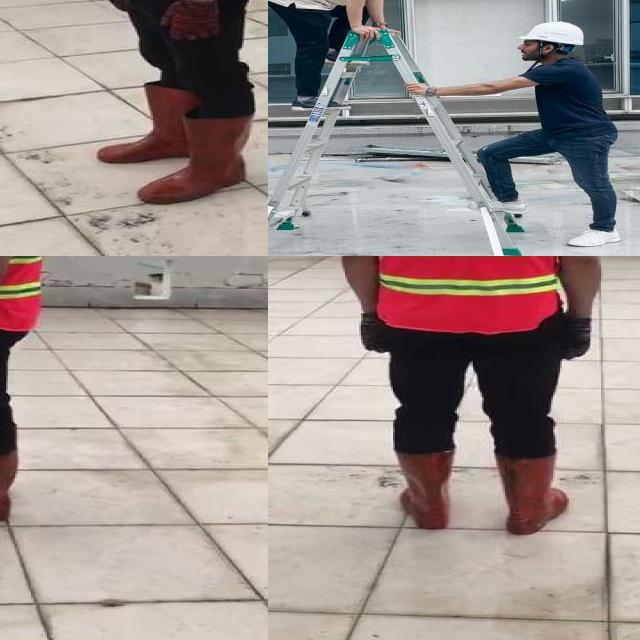boots: (140, 117, 252, 204), (94, 84, 201, 161), (494, 453, 571, 535), (393, 450, 455, 531)
face_nomask: (515, 37, 534, 60)
hand_glove: (158, 0, 222, 42), (359, 313, 388, 354), (566, 315, 590, 359)
hand_noglove: (403, 77, 435, 97), (350, 21, 378, 43)
head_helmet: (516, 17, 587, 47)
person: (316, 256, 618, 549), (467, 3, 635, 254), (85, 0, 268, 209), (268, 0, 449, 120)
shoes: (562, 222, 627, 250), (290, 88, 356, 115), (467, 190, 530, 216)
vest: (355, 256, 572, 333), (0, 256, 40, 331)
